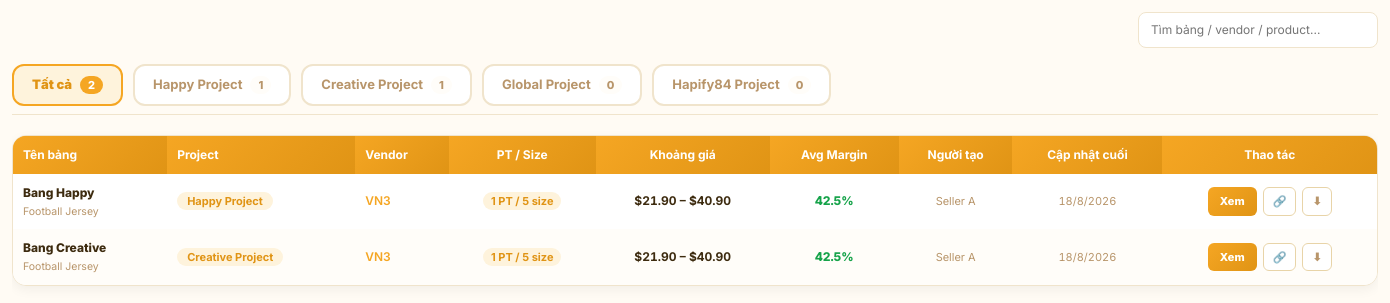
danh sách — trộn nhiều project › bấm chip project thì lọc đúng, chip Tất cả đưa về đủ
Expected: the text "Bang Happy" is shown, x1=23 y1=184 x2=94 y2=200
Click the button "Creative Project 1" at (387, 85), box x1=301 y1=64 x2=472 y2=106
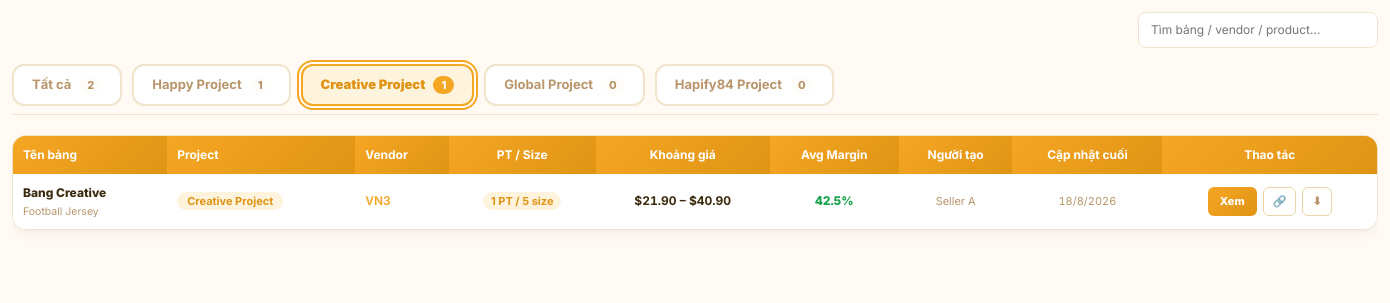
Expected: the text "Bang Creative" is shown, x1=23 y1=184 x2=106 y2=200
Expected: the text "Bang Happy" is gone
Click the button "Tất cả 2" at (67, 85), box x1=12 y1=64 x2=122 y2=106
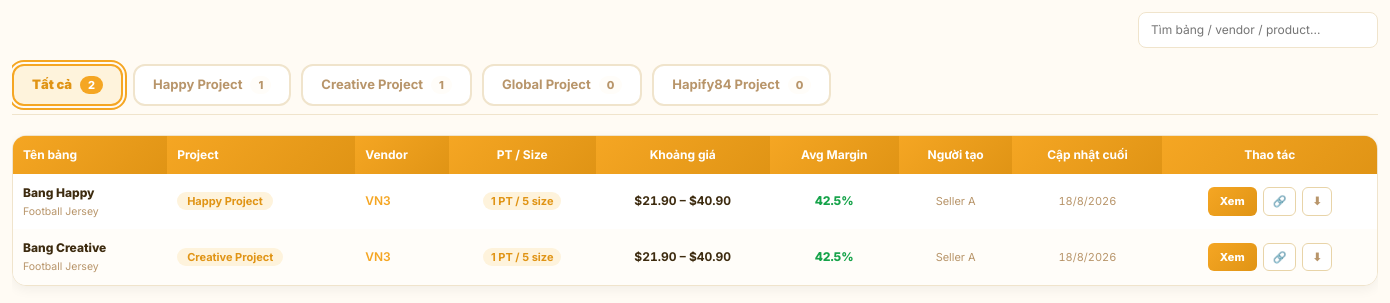
Expected: the text "Bang Creative" is shown, x1=23 y1=240 x2=106 y2=255
Expected: the text "Bang Happy" is shown, x1=23 y1=184 x2=94 y2=200
